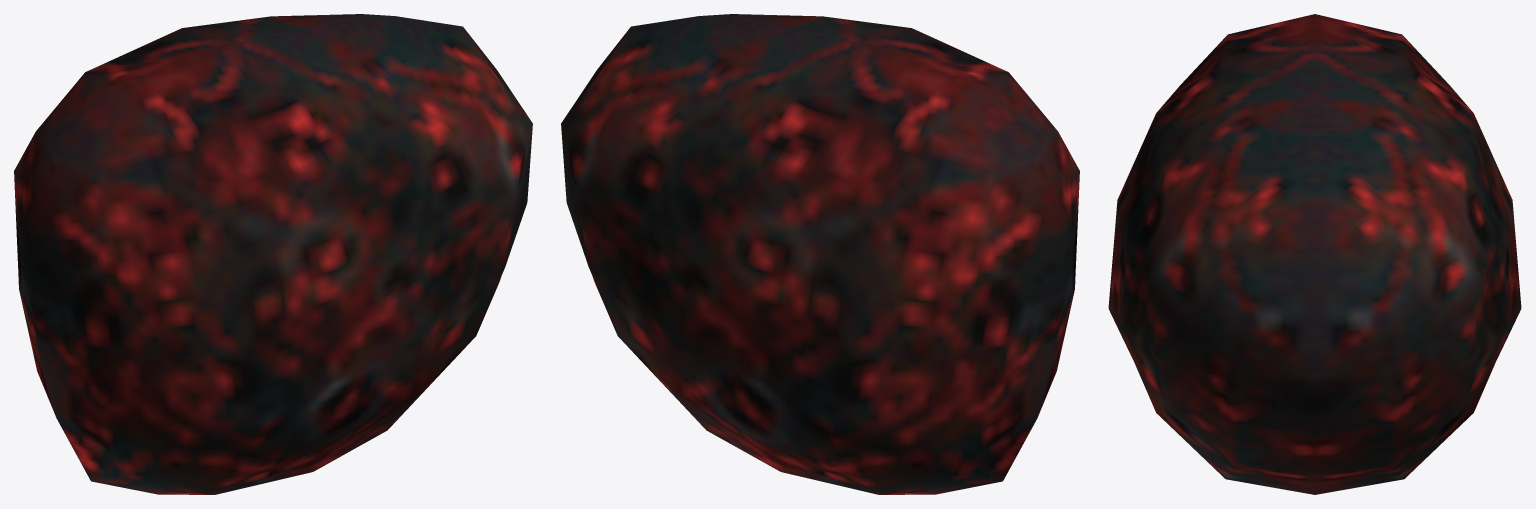
Rendered from aerolite06.FBX.
3 renders of one model, left to right at view 1: azimuth 30°, elevation 25°; view 2: azimuth 150°, elevation 25°; view 3: azimuth 270°, elevation 25°, orthographic.
Parts seen in each view (by area): view 1: aerolite06; view 2: aerolite06; view 3: aerolite06.
Boxes of the visible parts, left/top/right/bottom form: aerolite06: left=14, top=14, right=532, bottom=494; aerolite06: left=561, top=14, right=1079, bottom=494; aerolite06: left=1108, top=14, right=1521, bottom=494.
Bounding box in the file's own units: 1091 × 959 × 836.
